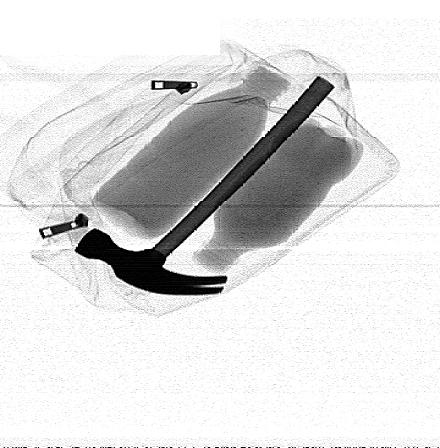Hammer: (75, 75, 336, 295)
